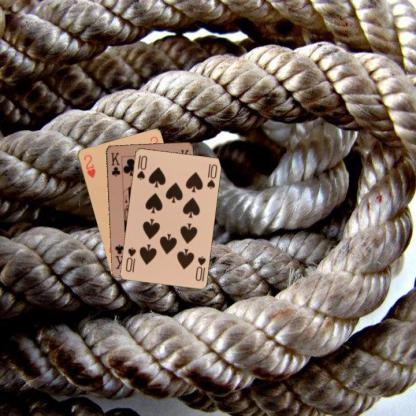10s: (134, 152, 149, 181), (192, 253, 207, 282)
2h: (81, 152, 96, 179)
Kc: (108, 150, 122, 177)
